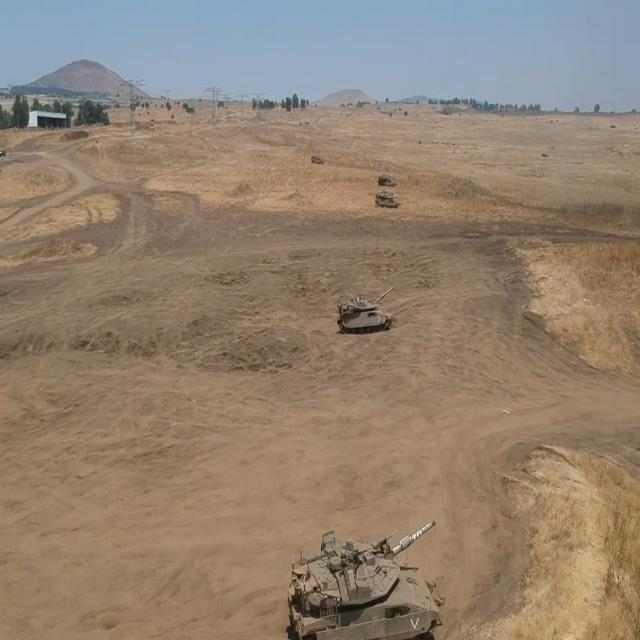tank: (280, 511, 452, 637), (333, 285, 407, 342), (369, 192, 401, 212), (377, 168, 397, 189), (310, 153, 324, 168)
